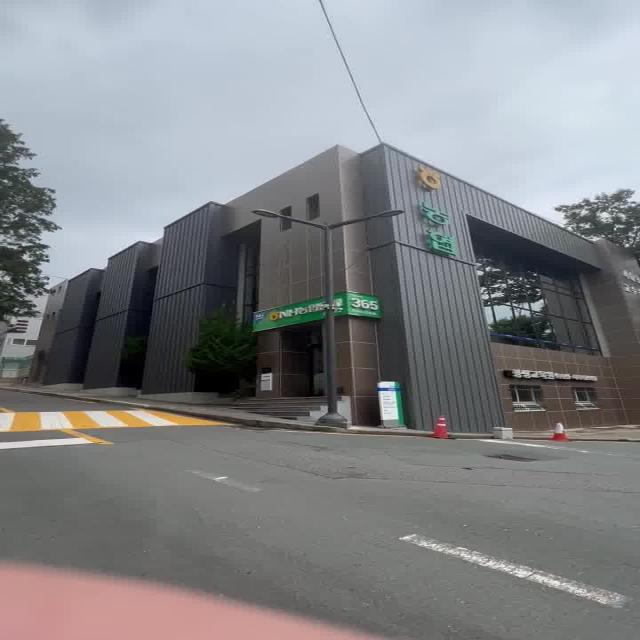building: (75, 170, 592, 406)
